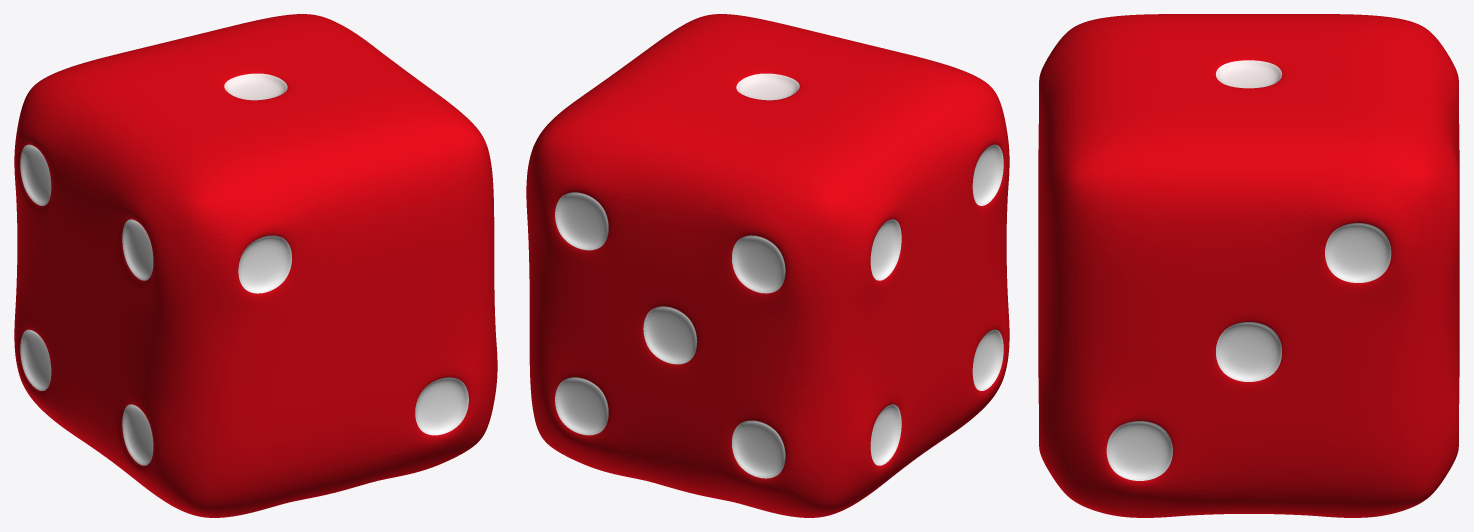
File: dice_red.fbx
3 renders of one model, left to right at view 1: azimuth 30°, elevation 25°; view 2: azimuth 150°, elevation 25°; view 3: azimuth 270°, elevation 25°, orthographic. The views are drawn at different scales.
Parts seen in each view (by area): view 1: Cube; view 2: Cube; view 3: Cube.
Part boxes in pixels (x1,y1,x2,y2): Cube: (14, 14, 497, 517); Cube: (526, 14, 1009, 517); Cube: (1038, 14, 1459, 517).
Bounding box in the file's own units: 200 × 200 × 200.
